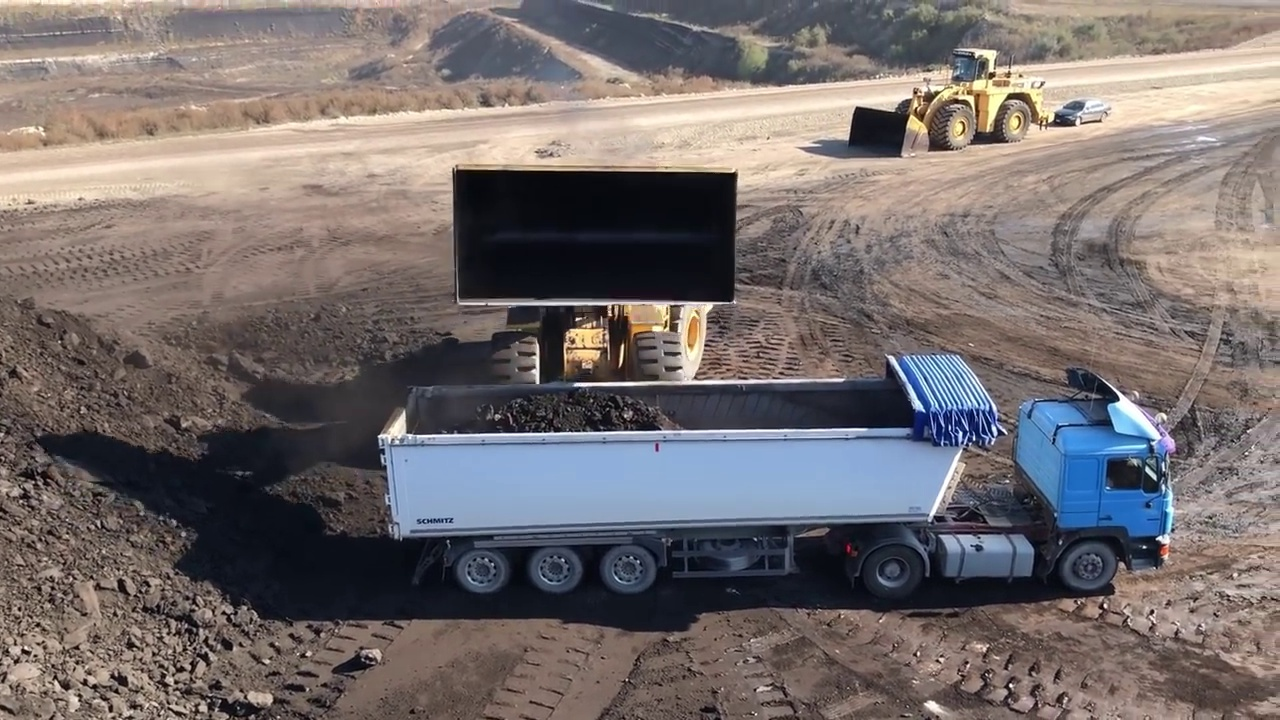car: (1054, 98, 1109, 128)
truck: (314, 354, 1178, 604)
wheel loader: (450, 162, 741, 390), (846, 45, 1053, 156)
